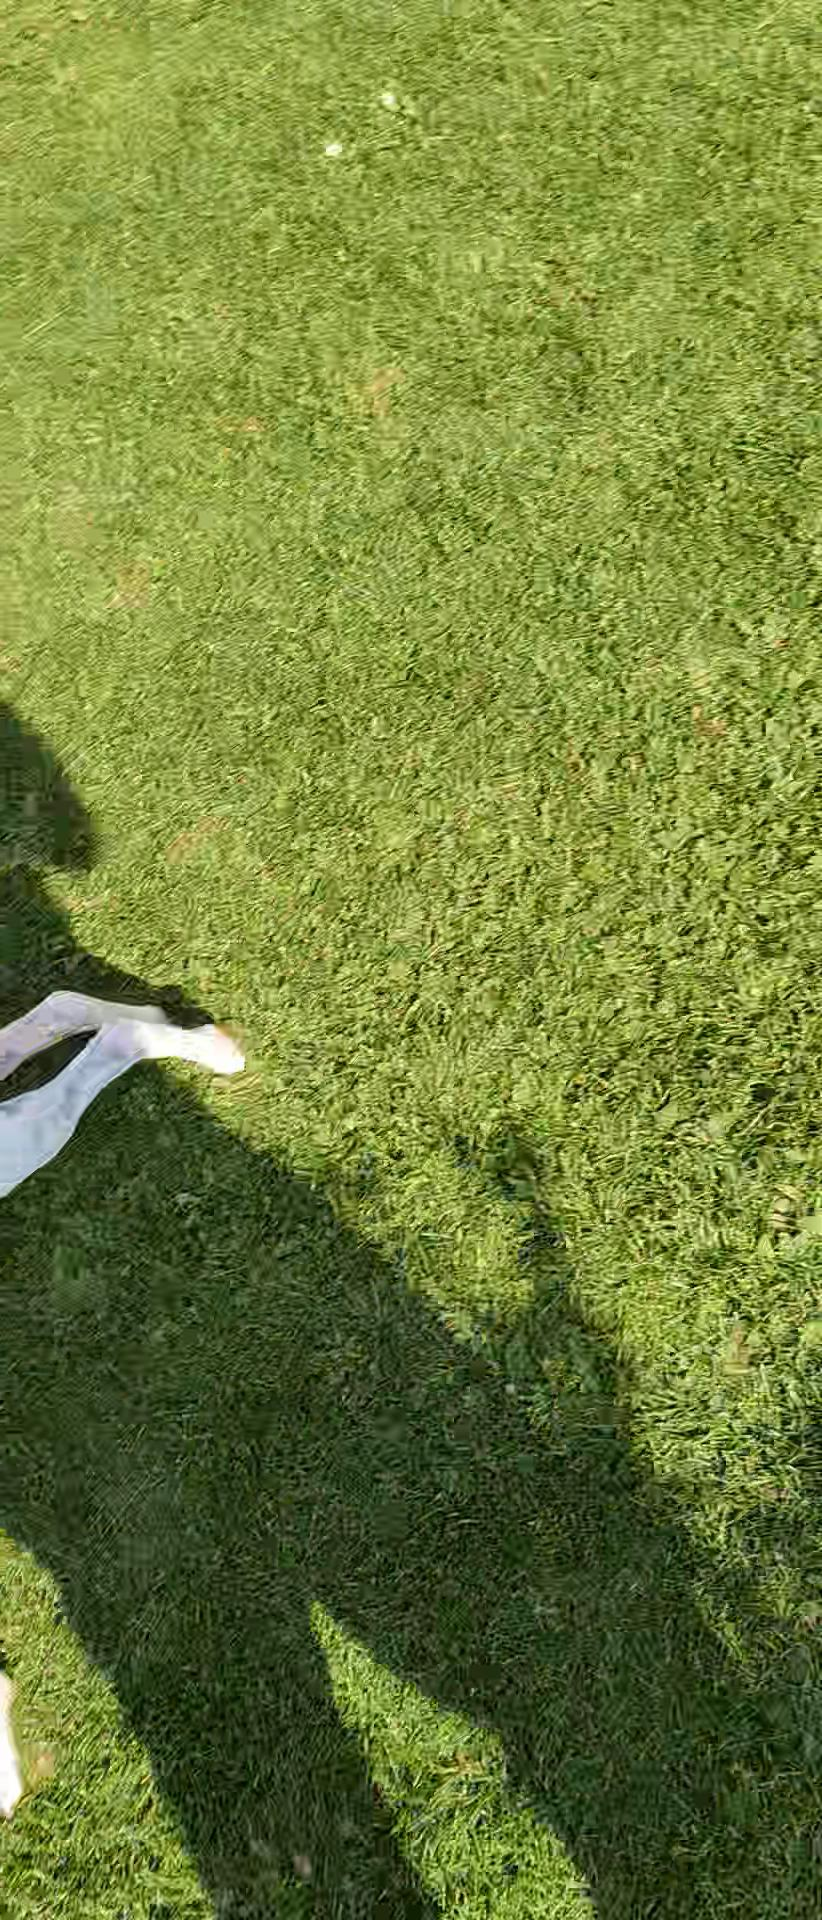Dog: (0, 960, 262, 1919)
